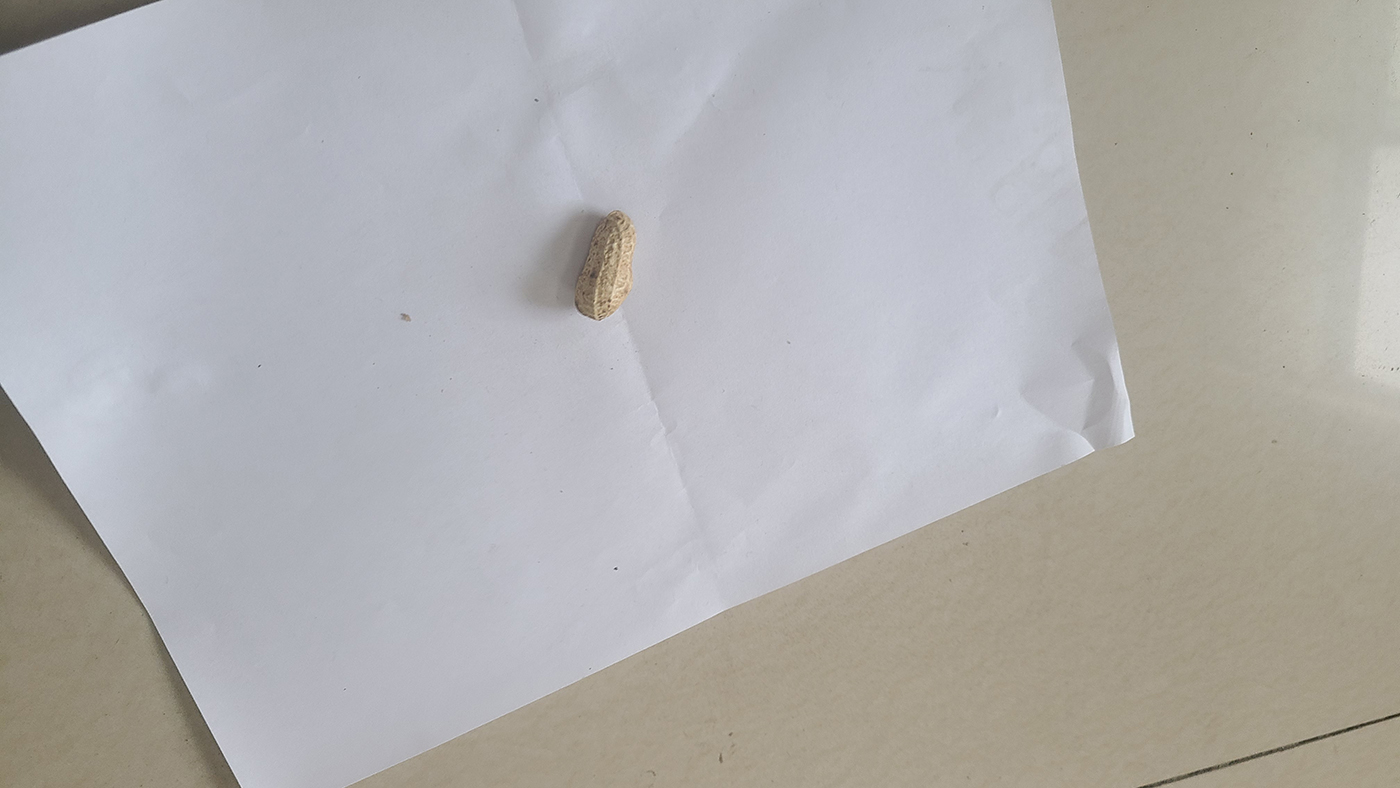h: (573, 209, 639, 322)
